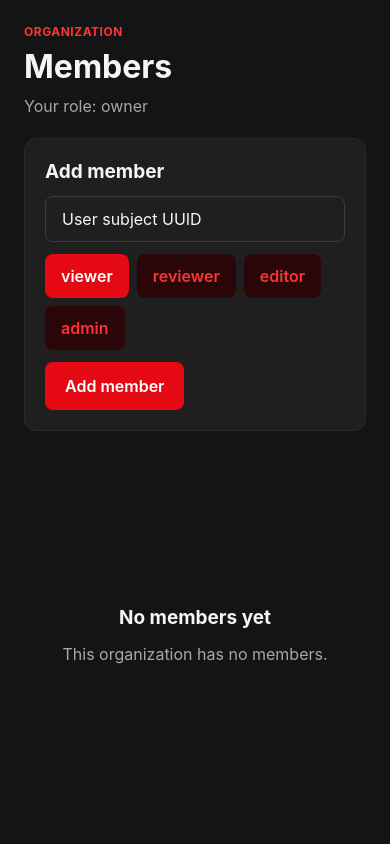
it: organization screens › EC-2 members: blank subject id is rejected without sending a request
Expected: the element with test id "member-list-empty" is shown, [62,606,328,664]
What coordinates should you click on to do the following:
click the button with test id "member-add"
I would click on:
 (115, 386)
Its box is [45,362,184,410].
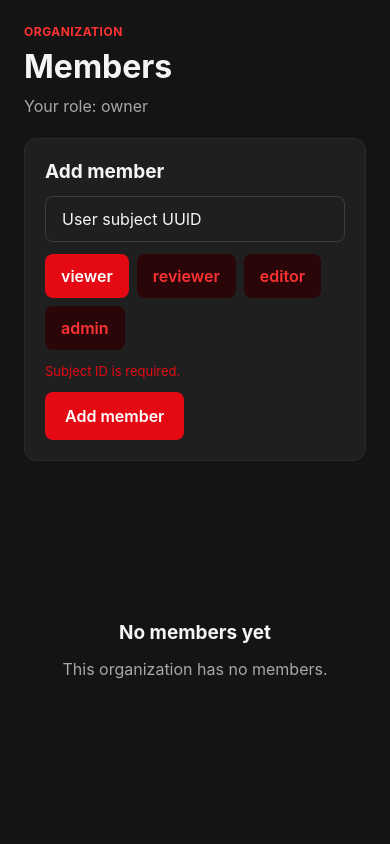
Result: the text "Subject ID is required." is shown at [45,363,180,379]
